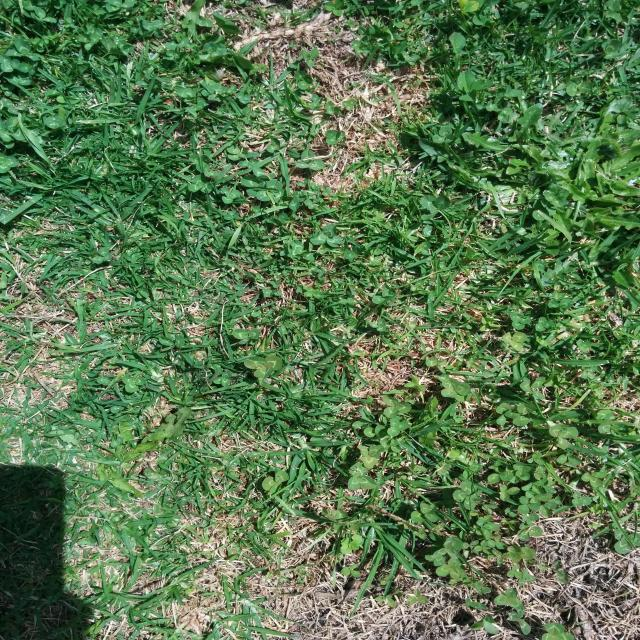Four Leaf Clover: (452, 481, 482, 510)
